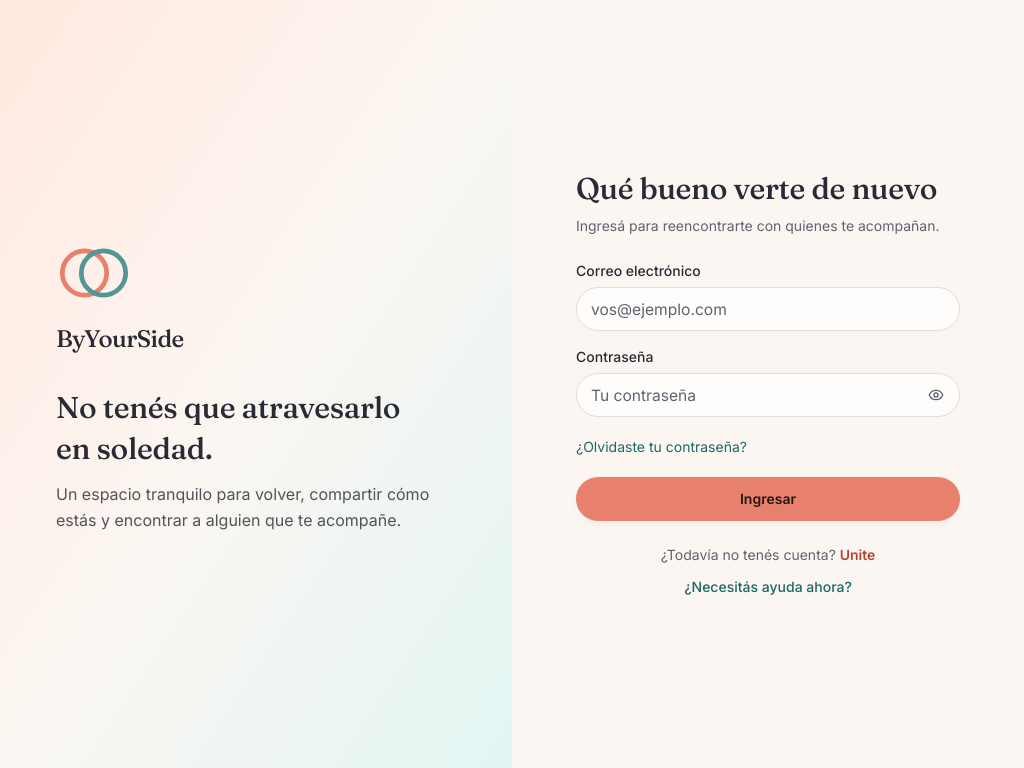
LoginPage › shows an inline email error and does not submit
Type "no-es-correo" into the field labelled "Correo electrónico".
click(768, 309); type("no-es-correo")  # box [576, 287, 960, 331]
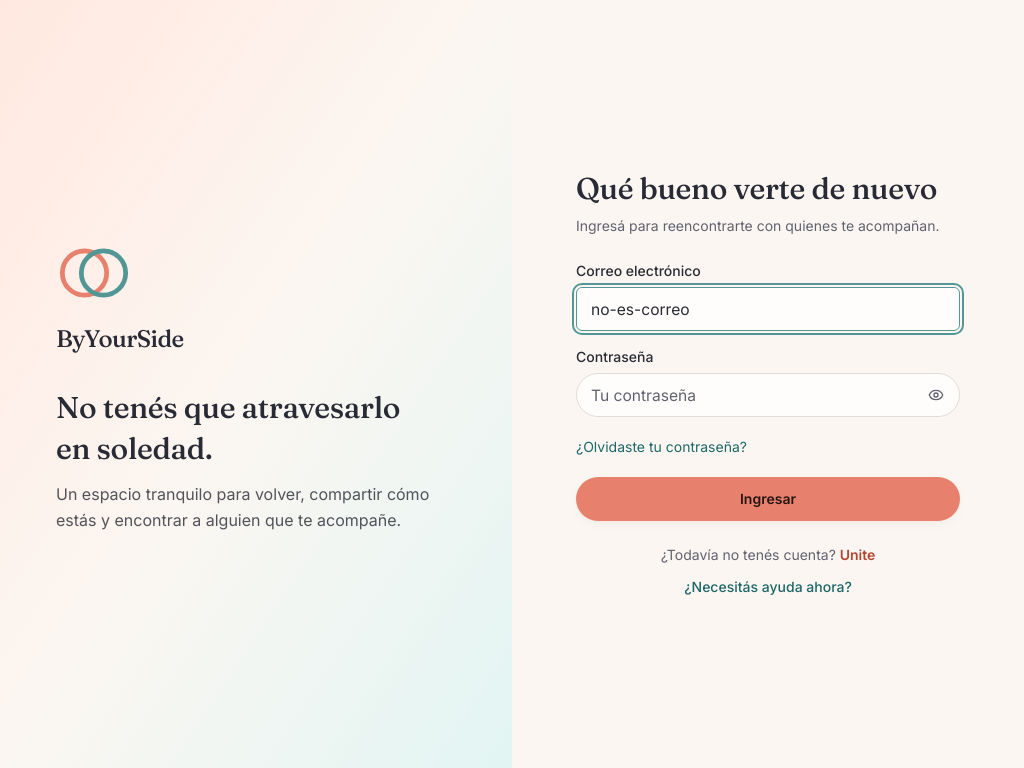
Type "secretpass" into the password field labelled "Contraseña".
click(768, 395); type("secretpass")  # box [576, 373, 960, 417]
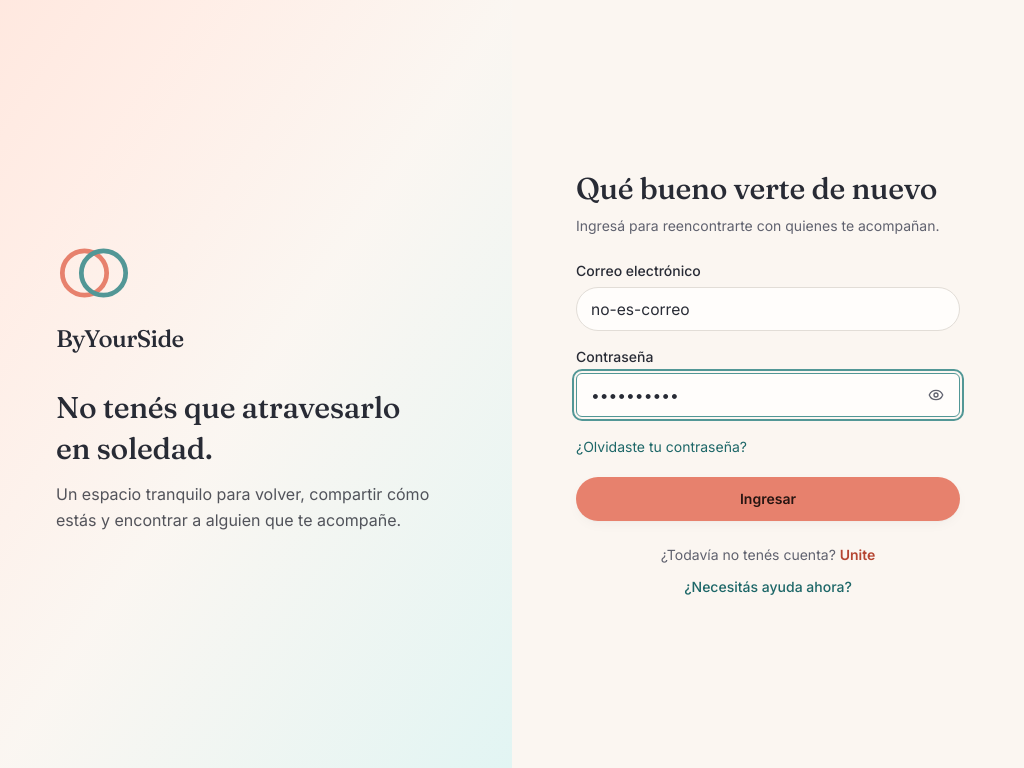
Click the button "Ingresar".
click(768, 499)  # box [576, 477, 960, 521]
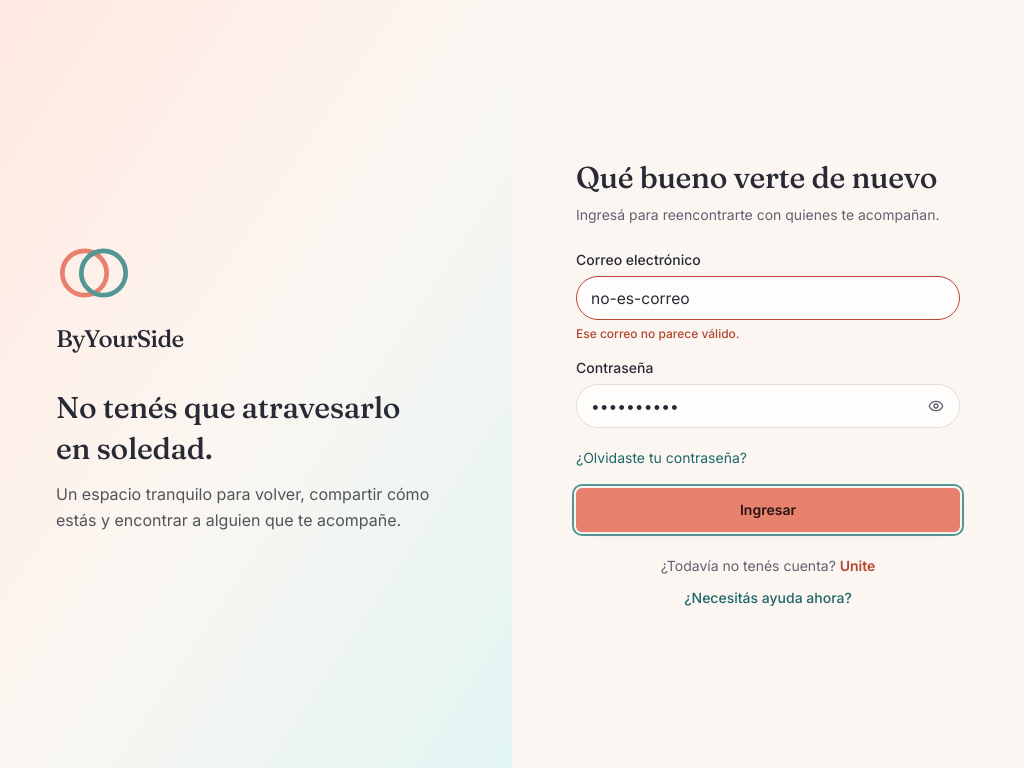
Result: the text "Ese correo no parece válido." is shown at [576, 326, 740, 341]
